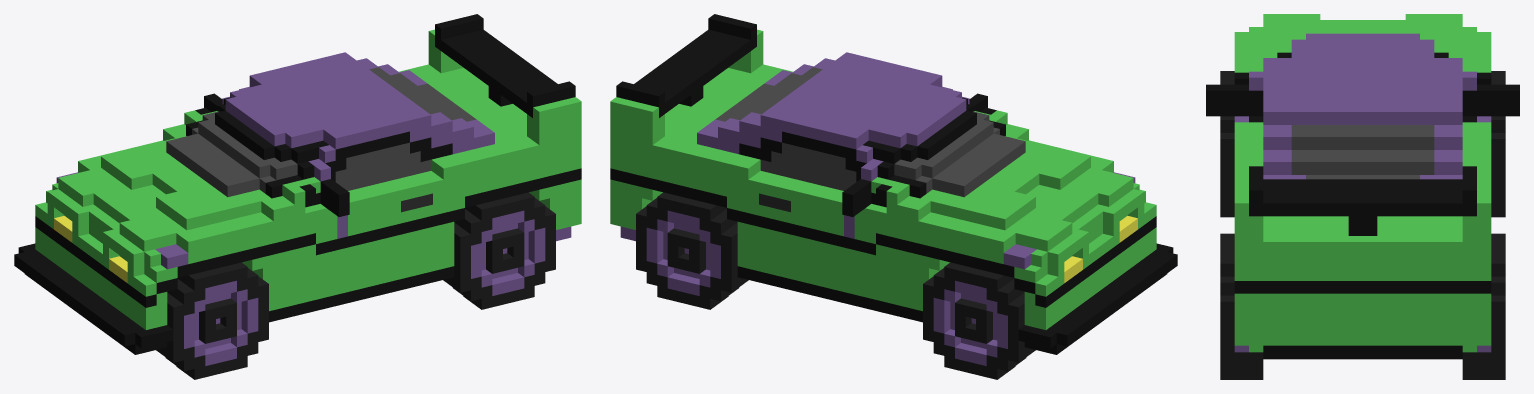
The model's file is eva01ferrari-len2.glb.
The picture shows the model from 3 angles, left to right: view 1: azimuth 30°, elevation 25°; view 2: azimuth 150°, elevation 25°; view 3: azimuth 270°, elevation 25°; orthographic projection. The views are drawn at different scales.
Visible parts, largest first — view 1: _0; view 2: _0; view 3: _0.
Boxes of the visible parts, x1=… form: _0: x1=14, y1=14, x2=581, y2=379; _0: x1=610, y1=14, x2=1177, y2=379; _0: x1=1206, y1=14, x2=1519, y2=379.
Bounding box in the file's own units: 0.0645 × 0.0255 × 0.033.
